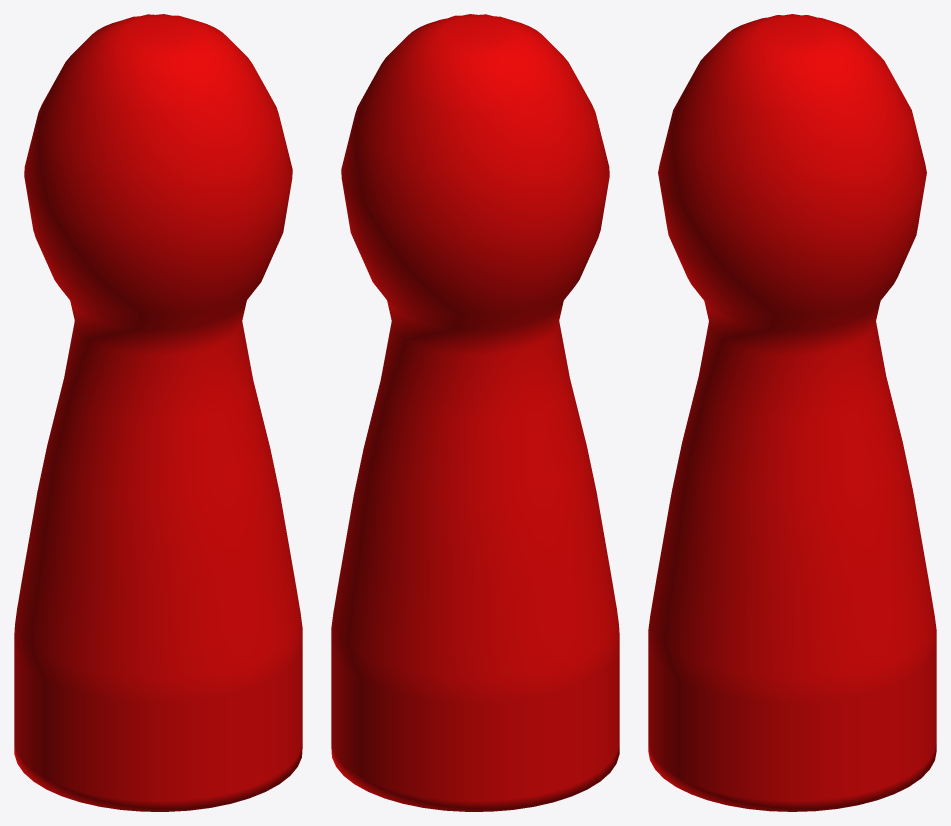
File: ludo_piece.fbx
3 views of the same model, side by side, from view 1: azimuth 30°, elevation 25°; view 2: azimuth 150°, elevation 25°; view 3: azimuth 270°, elevation 25° (orthographic).
Visible parts, largest first — view 1: pCylinder1; view 2: pCylinder1; view 3: pCylinder1.
Boxes of the visible parts, x1=… form: pCylinder1: x1=14, y1=14, x2=302, y2=811; pCylinder1: x1=331, y1=14, x2=619, y2=811; pCylinder1: x1=648, y1=14, x2=936, y2=811.
Size of the model in its own units: 1.98 by 5.49 by 1.98.
